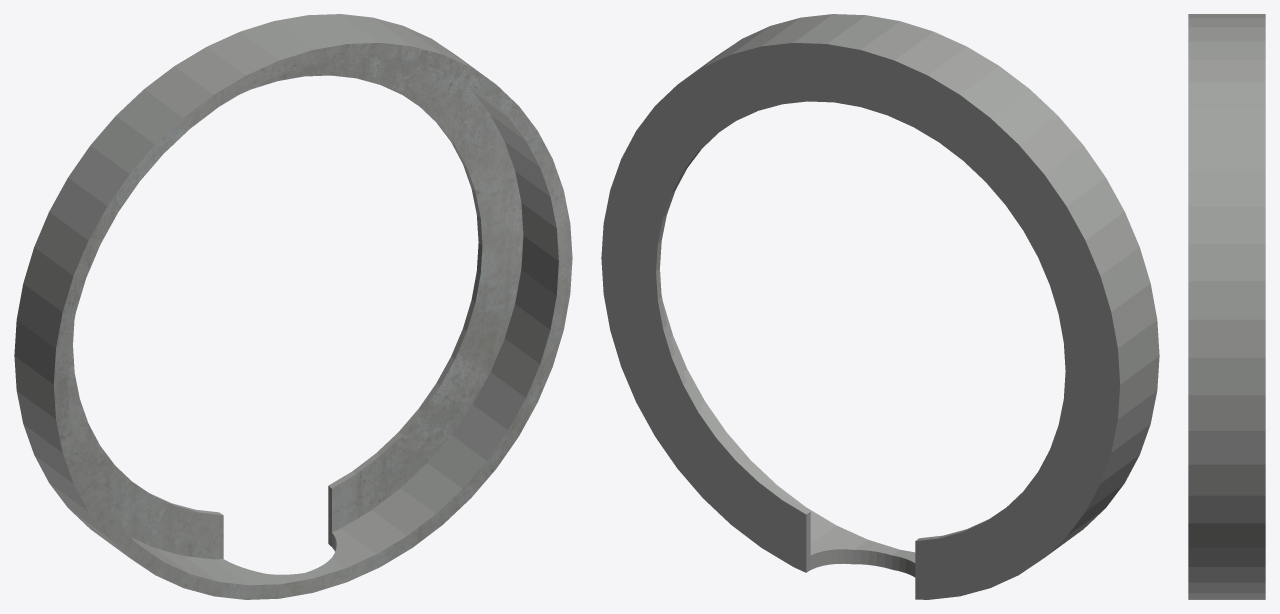
The model's file is pool_030.obj.
3 renders of one model, left to right at view 1: azimuth 30°, elevation 25°; view 2: azimuth 150°, elevation 25°; view 3: azimuth 270°, elevation 25°, orthographic. The views are drawn at different scales.
Bounding box in the file's own units: 38 × 38 × 5.
